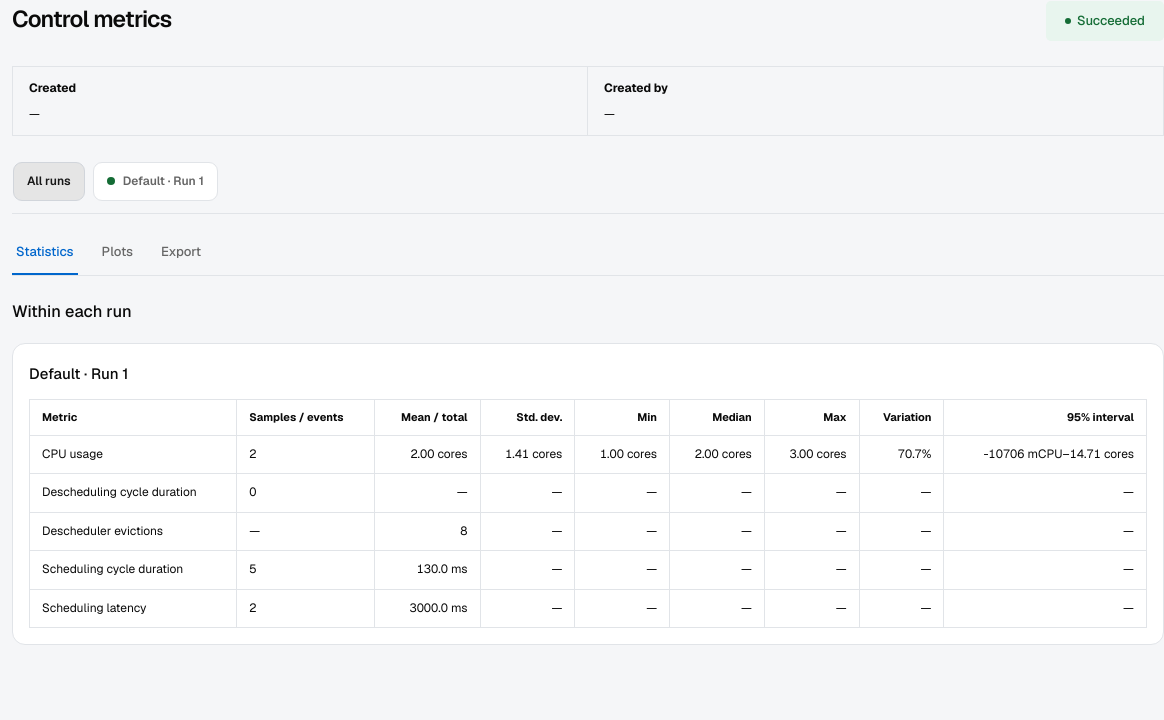
Test: integrates event-weighted cycle means and eviction totals into the common statistics table
The width and height of the screenshot is (1164, 720).
Expected: the button "Export" is shown, [157,230,205,275]
Expected: the button "Statistics" is shown, [12,230,78,275]
Click the button "Plots": {"x": 117, "y": 252} [98,230,137,275]
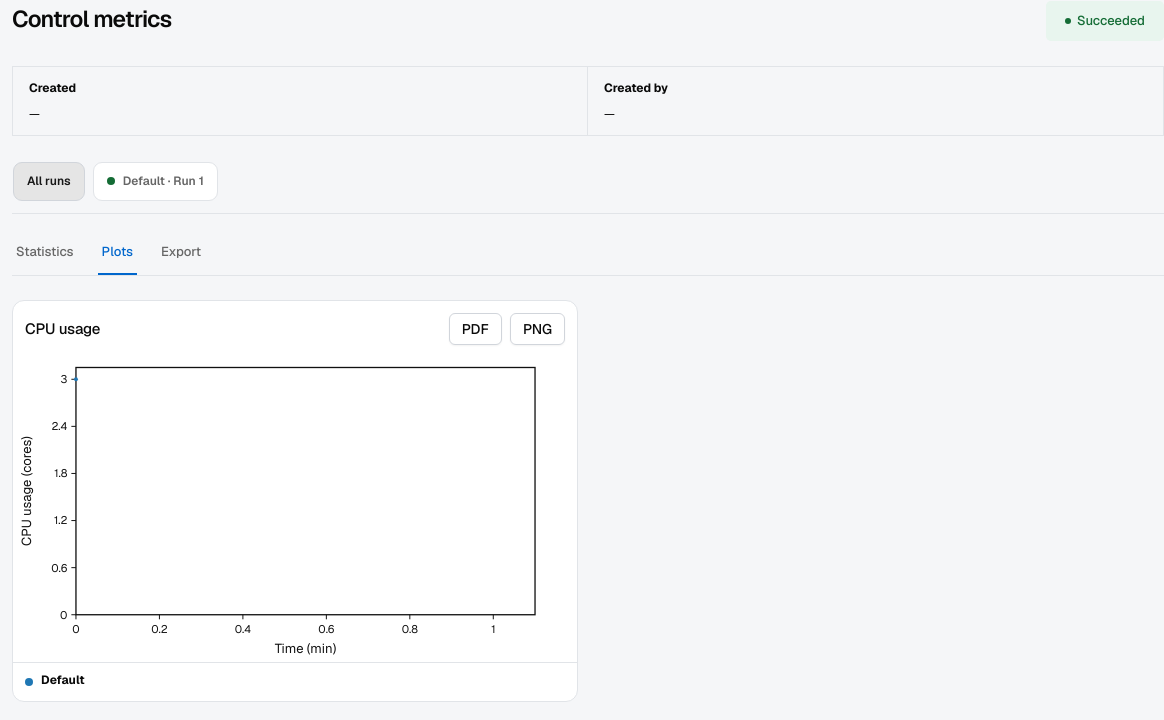
Click the button "Statistics": {"x": 45, "y": 252} [12,230,78,275]
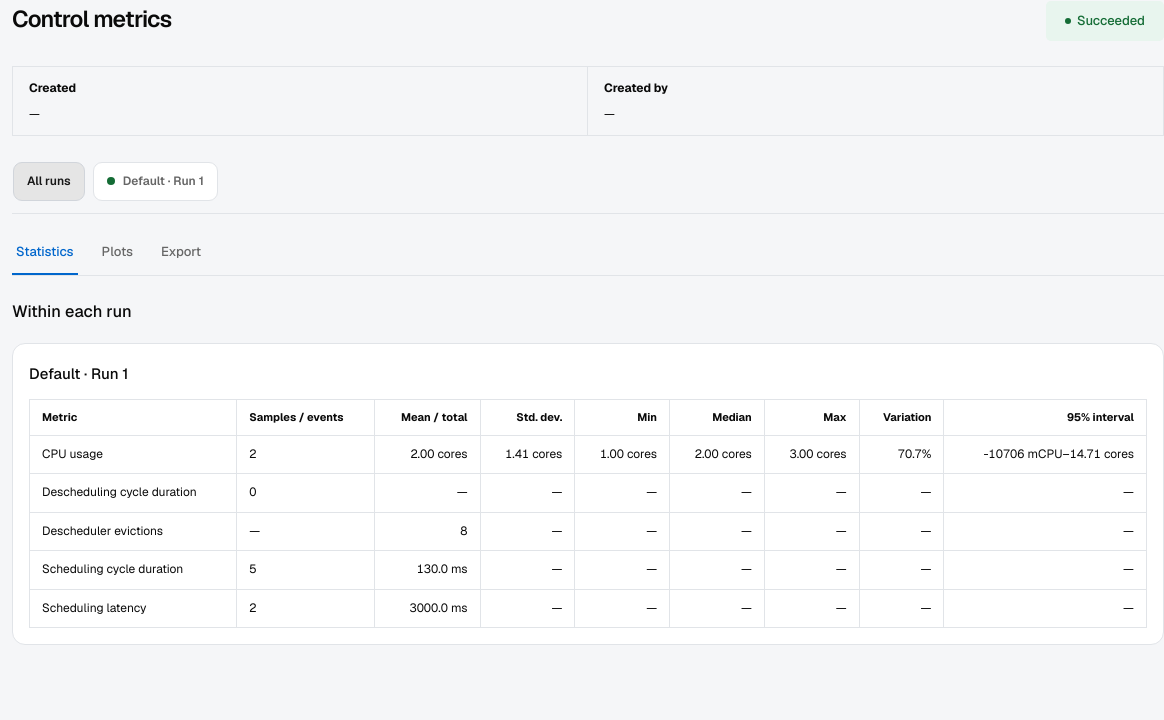
Expected: the text "Descheduler evictions" does not show "5.0", [30,512,1146,551]
Expected: the text "Descheduler evictions" shows "8", [460,523,468,539]
